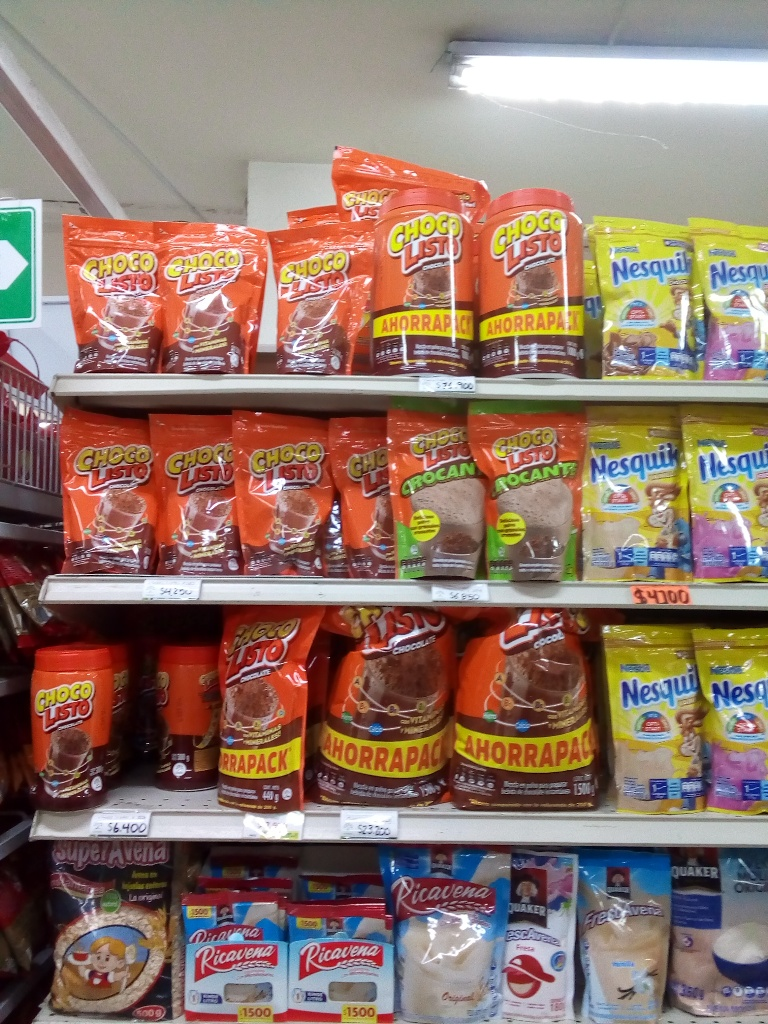COL0170102DYP25000: (393, 403, 494, 583)
COL0170103DYP1,500: (313, 610, 448, 814)
COL0170103DYP44000: (193, 605, 307, 815)
COL0170103TRR00100: (365, 188, 471, 375)
COL0170103TRR30000: (31, 645, 142, 813)
COL0170303DYP20000: (599, 205, 703, 383)
COL0170305DYP20000: (688, 199, 765, 376)
COL0170306DYP20000: (583, 399, 691, 582)
